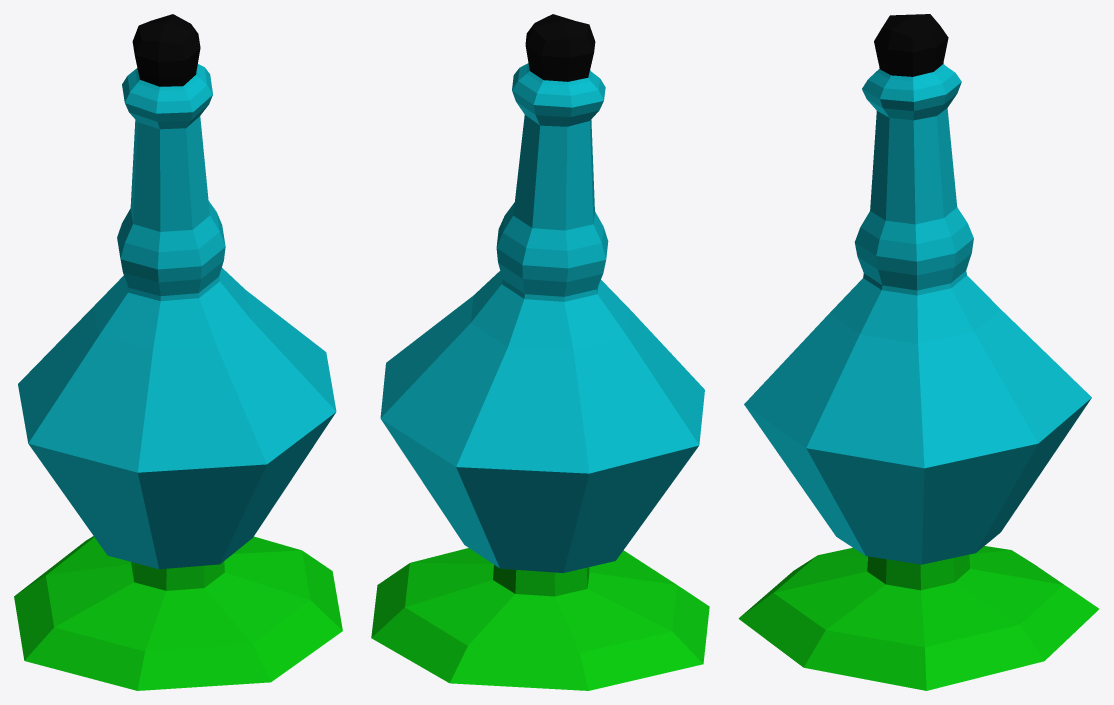
The model's file is ZamZamBottle_01.fbx.
3 views of the same model, side by side, from view 1: azimuth 30°, elevation 25°; view 2: azimuth 150°, elevation 25°; view 3: azimuth 270°, elevation 25° (orthographic).
Parts seen in each view (by area): view 1: ZamZamBottle_01; view 2: ZamZamBottle_01; view 3: ZamZamBottle_01.
Part boxes in pixels (left/top/right/bottom): ZamZamBottle_01: left=14, top=14, right=342, bottom=690; ZamZamBottle_01: left=371, top=14, right=709, bottom=690; ZamZamBottle_01: left=738, top=14, right=1098, bottom=690.
Size of the model in its own units: 1.37 by 2.51 by 1.37.
